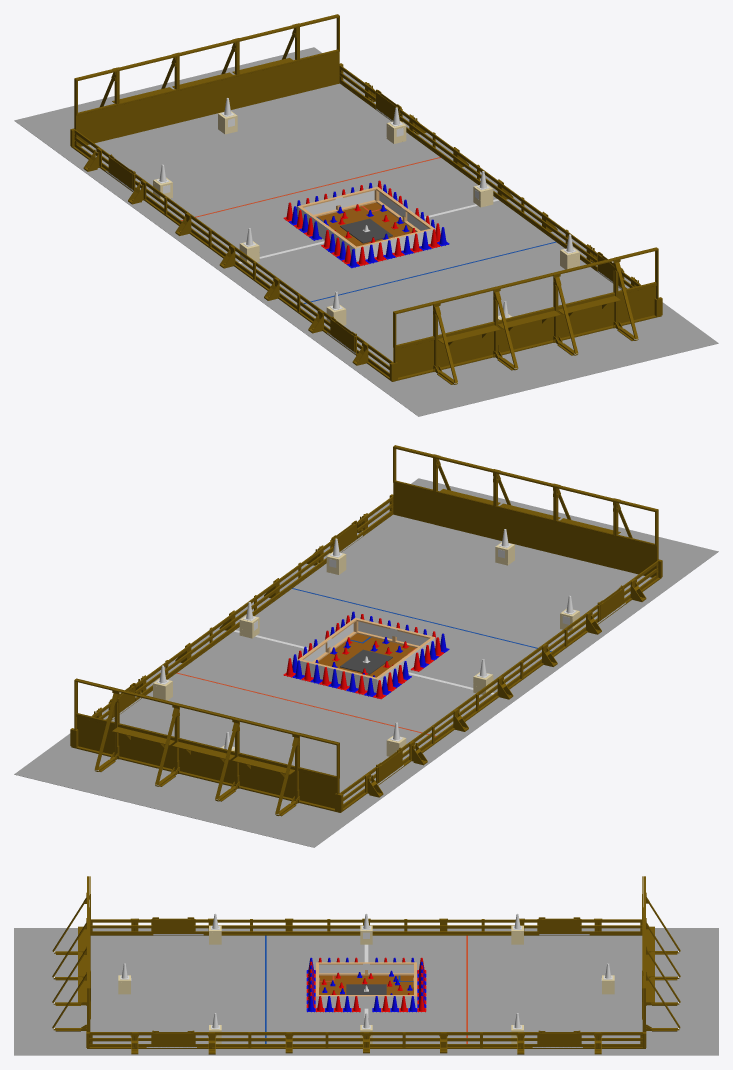
The picture shows the model from 3 angles, top to bottom: view 1: azimuth 30°, elevation 25°; view 2: azimuth 150°, elevation 25°; view 3: azimuth 270°, elevation 25°; orthographic projection. The views are drawn at different scales.
Parts seen in each view (by area): view 1: Carpet, End Panel - Face-1 (×6), Corner Panel - Face-1 (×4), Arena Floor End, Stage Platform; view 2: Carpet, End Panel - Face-1 (×6), Corner Panel - Face-1 (×4), Arena Floor End, Stage Platform; view 3: Carpet, Gate Ramp-1 (×4), PC Wall 16x60 (×4), Arena Floor End (×2), Stage Platform.
Part boxes in pixels (x1=…): Carpet: x1=14, y1=47, x2=718, y2=416; End Panel - Face-1 (×6): x1=117, y1=62, x2=614, y2=367; Corner Panel - Face-1 (×4): x1=76, y1=51, x2=655, y2=377; Arena Floor End: x1=317, y1=202, x2=397, y2=232; Stage Platform: x1=340, y1=218, x2=392, y2=242; Carpet: x1=14, y1=478, x2=718, y2=847; End Panel - Face-1 (×6): x1=118, y1=493, x2=615, y2=798; Corner Panel - Face-1 (×4): x1=77, y1=482, x2=656, y2=808; Arena Floor End: x1=335, y1=633, x2=415, y2=663; Stage Platform: x1=340, y1=649, x2=392, y2=674; Carpet: x1=14, y1=928, x2=718, y2=1055; Gate Ramp-1 (×4): x1=153, y1=919, x2=579, y2=1046; PC Wall 16x60 (×4): x1=316, y1=964, x2=416, y2=1008; Arena Floor End (×2): x1=319, y1=975, x2=413, y2=994; Stage Platform: x1=346, y1=984, x2=386, y2=994.
Bounding box in the file's own units: 9.14 × 1.99 × 21.34.
